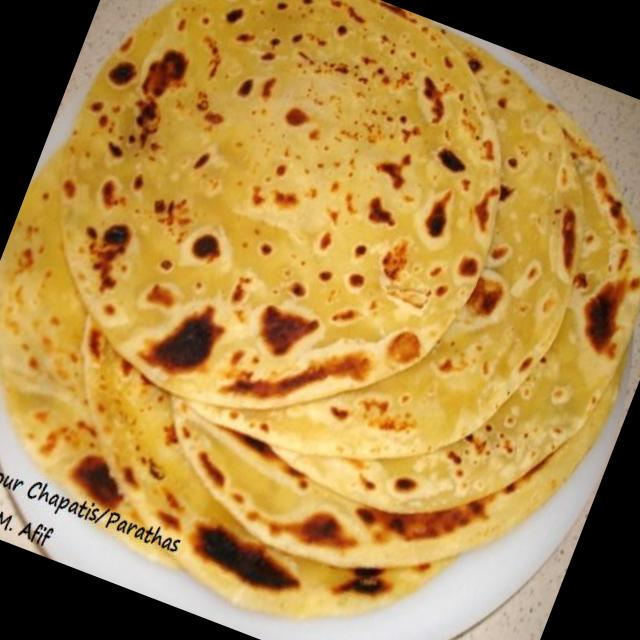roti: (0, 0, 640, 609)
